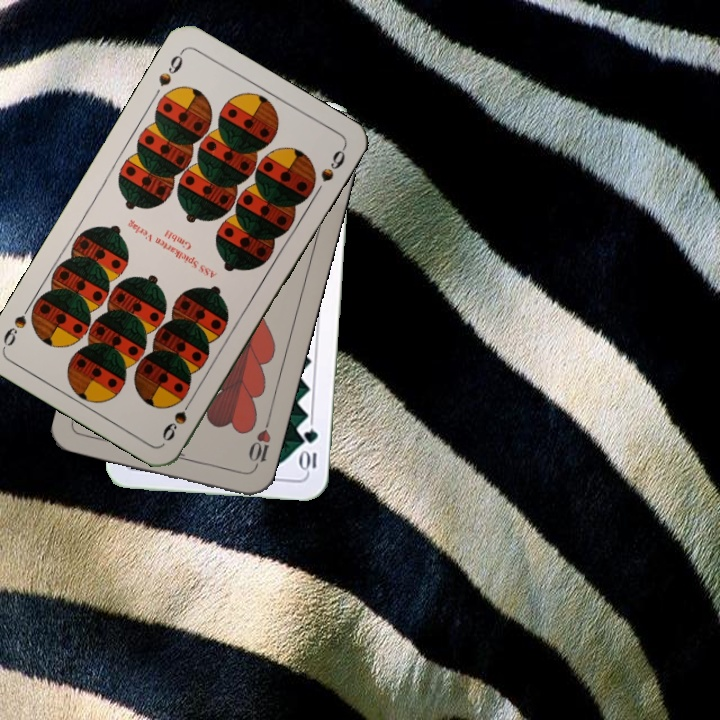G10: (298, 425, 320, 475)
H10: (244, 416, 274, 474)
S9: (158, 391, 197, 444), (154, 46, 187, 89)
